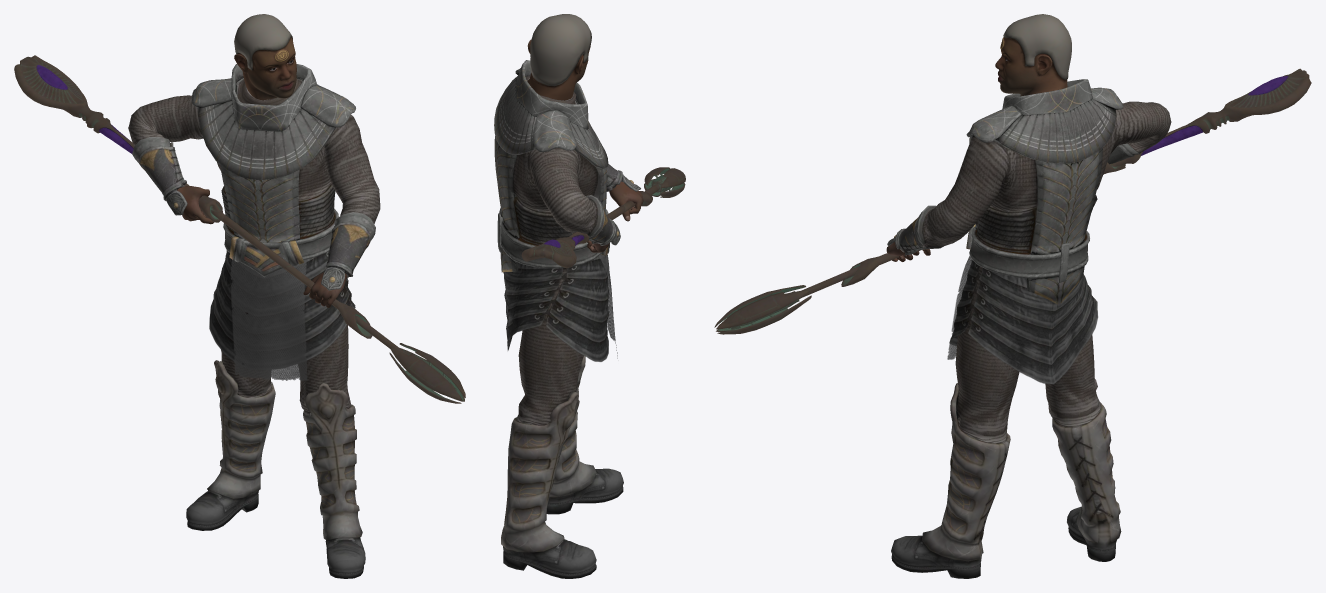
The picture shows the model from 3 angles, left to right: view 1: azimuth 30°, elevation 25°; view 2: azimuth 150°, elevation 25°; view 3: azimuth 270°, elevation 25°; orthographic projection. The views are drawn at different scales.
Parts seen in each view (by area): view 1: Tealc_Body, Tealc_Skirt, Circle.000, Tealc_Head; view 2: Tealc_Body, Tealc_Skirt, Tealc_Head, Circle.000; view 3: Tealc_Body, Tealc_Skirt, Circle.000, Tealc_Head.
Boxes of the visible parts, left/top/right/bottom form: Tealc_Body: left=128, top=64, right=380, bottom=578; Tealc_Skirt: left=209, top=250, right=355, bottom=380; Circle.000: left=14, top=55, right=465, bottom=403; Tealc_Head: left=234, top=14, right=296, bottom=100; Tealc_Body: left=494, top=60, right=643, bottom=578; Tealc_Skirt: left=503, top=253, right=617, bottom=361; Tealc_Head: left=527, top=14, right=591, bottom=100; Circle.000: left=521, top=167, right=685, bottom=268; Tealc_Body: left=886, top=79, right=1171, bottom=578; Tealc_Skirt: left=947, top=256, right=1098, bottom=384; Circle.000: left=714, top=68, right=1311, bottom=334; Tealc_Head: left=995, top=14, right=1071, bottom=95.
Bounding box in the file's own units: 0.7932 × 1.94 × 1.96.
6 materials, 5 textured.
